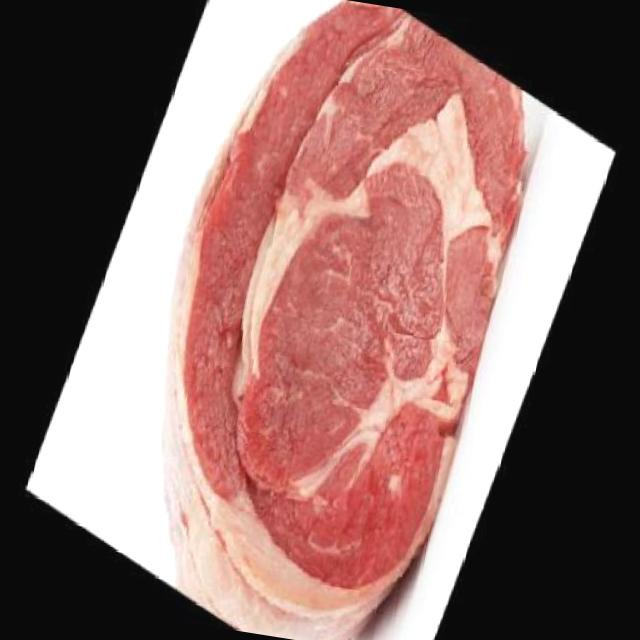beef: (111, 0, 557, 640)
